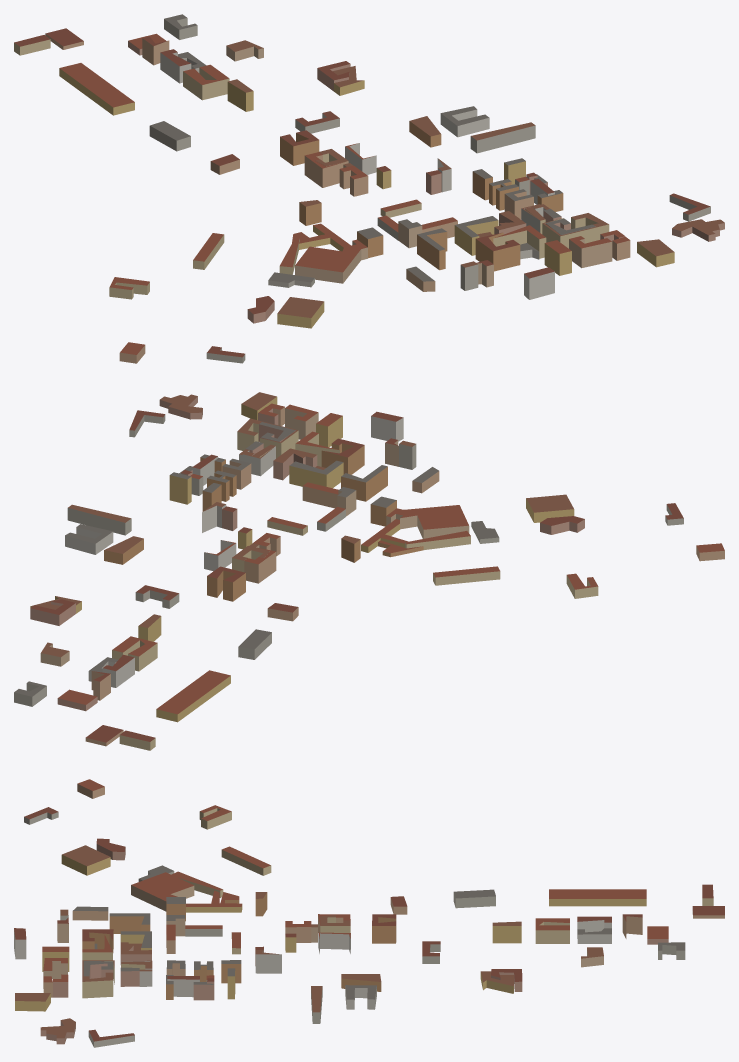
Rendered from SM_Fondale_Citta_NE_01_LOD2.fbx.
3 renders of one model, top to bottom at view 1: azimuth 30°, elevation 25°; view 2: azimuth 150°, elevation 25°; view 3: azimuth 270°, elevation 25°, orthographic. The views are drawn at different scales.
Visible parts, largest first — view 1: SM_Fondale_Citta_NE_01_LOD2; view 2: SM_Fondale_Citta_NE_01_LOD2; view 3: SM_Fondale_Citta_NE_01_LOD2.
Part boxes in pixels (x1,y1,x2,y2): SM_Fondale_Citta_NE_01_LOD2: (14,14,724,363); SM_Fondale_Citta_NE_01_LOD2: (14,392,724,750); SM_Fondale_Citta_NE_01_LOD2: (14,779,724,1047).
Bounding box in the file's own units: 91044 × 104390 × 3977.
